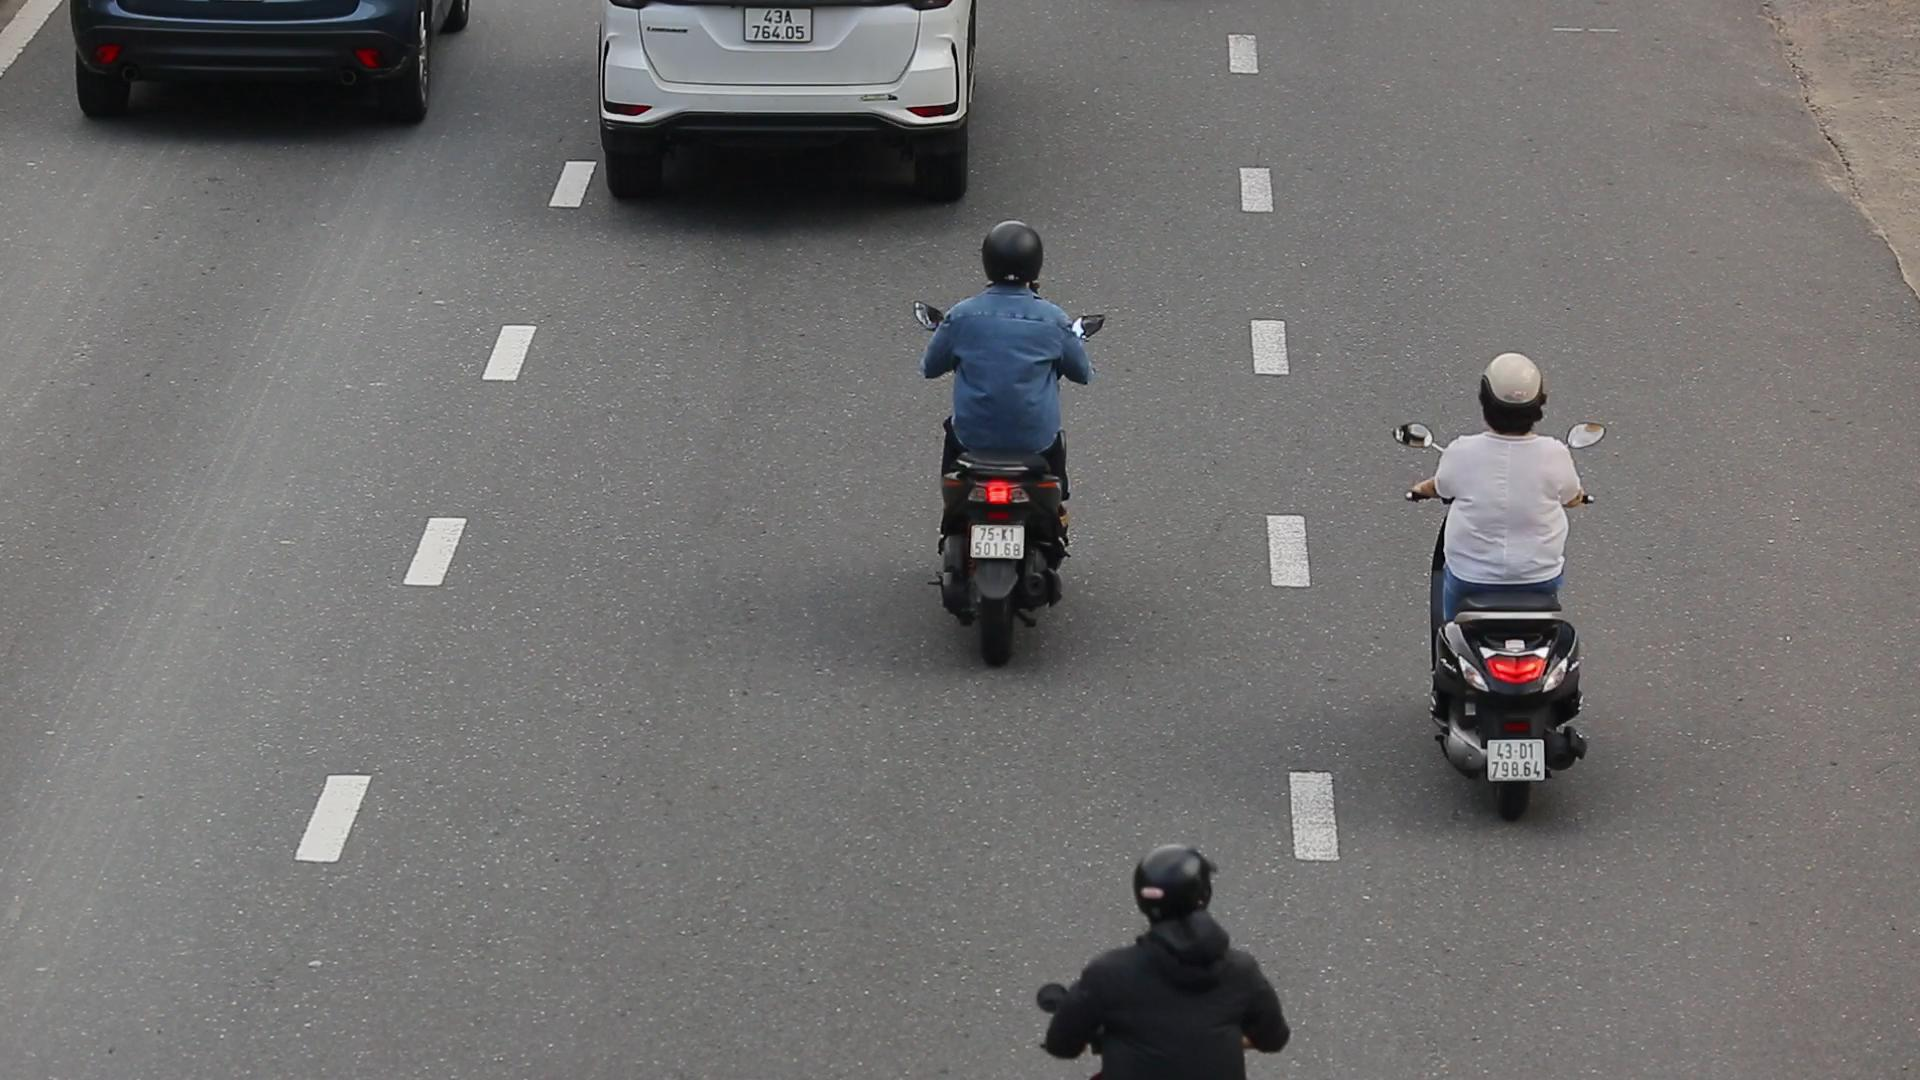motobike: (1390, 347, 1622, 831), (913, 214, 1116, 669)
